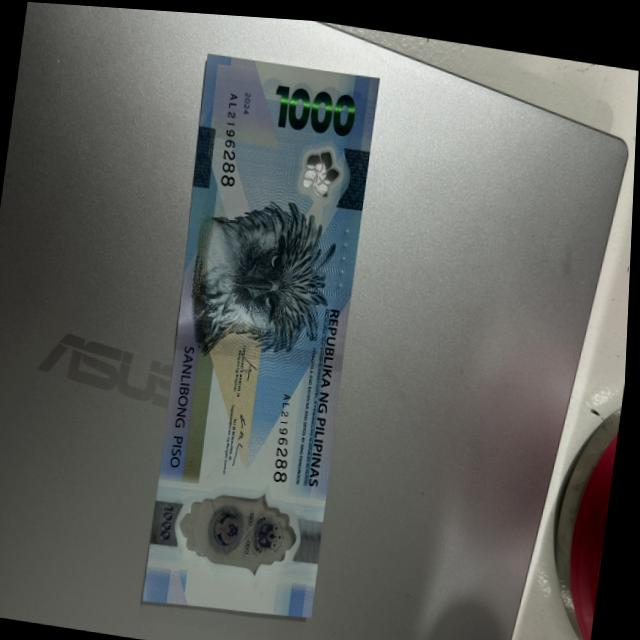clear_window: (180, 475, 311, 582)
eagle: (190, 200, 345, 366)
sampaguita: (296, 133, 347, 203)
